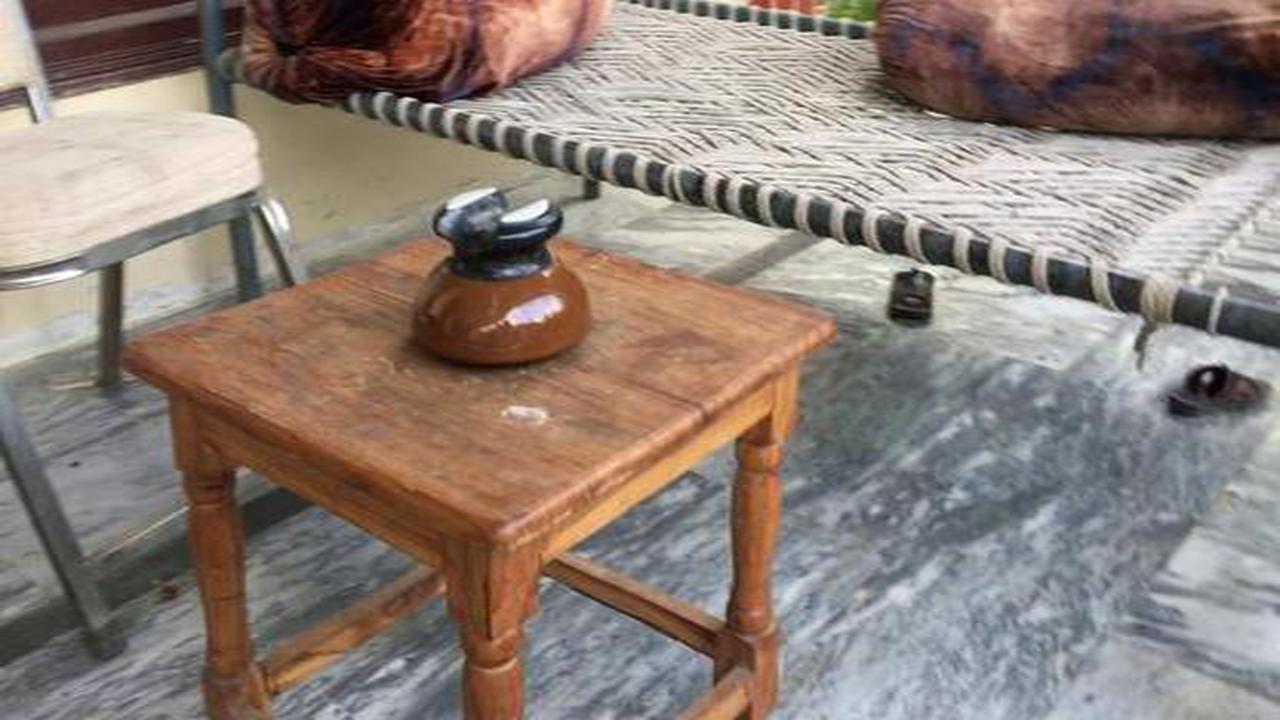insulator_pin: (385, 170, 613, 373)
